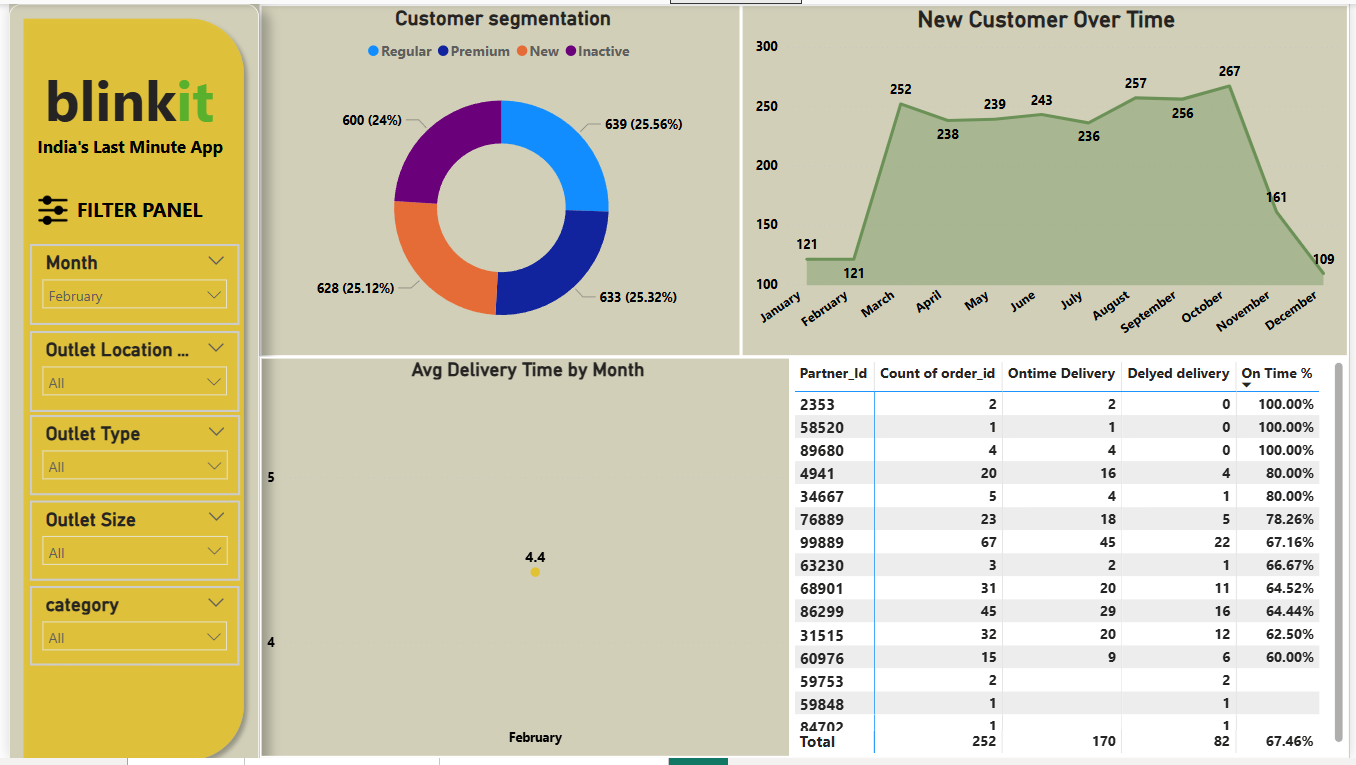

This screenshot's page, from the dashboard's own definition file:
{"tool":"powerbi","page":{"name":"Customer & Delivery","canvas":[1280,720],"ordinal":2},"visuals":[{"type":"lineChart","title":"New Customer Over Time","fields":{"Y":["CountNonNull(blinkit_customers.customer_id)"],"Category":["blinkit_customers.registration_date.Variation.Date Hierarchy.Month"]},"box":[698.3,0,582.2,337.2],"z":0},{"type":"donutChart","title":"Customer segmentation","fields":{"Y":["CountNonNull(blinkit_customers.customer_id)"],"Category":["blinkit_customers.customer_segment"]},"box":[238.6,0,461.3,337.2],"z":1000},{"type":"shape","box":[0,0,238.6,736.5],"z":2000},{"type":"pivotTable","fields":{"Values":["CountNonNull(blinkit_delivery_performance.order_id)","Measures (2).Count of Ontime Delivery","Measures (2).Delyed delivery","Measures (2).On Time %"],"Rows":["blinkit_delivery_performance.delivery_partner_id"]},"box":[744.4,337.2,534.4,383.3],"z":3000},{"type":"areaChart","fields":{"Y":["Measures (2).Avg Delivery Time"],"Category":["blinkit_orders.order_date.Variation.Date Hierarchy.Month"]},"box":[238.6,337.2,509,383.3],"z":4000},{"type":"textbox","box":[0,49.3,259.3,114.5],"z":4001},{"type":"image","box":[19.1,178.1,46.1,38.2],"z":4002},{"type":"textbox","box":[55,178,155,41],"z":4003},{"type":"slicer","fields":{"Values":["blinkit_orders.order_date.Variation.Date Hierarchy.Month"]},"box":[20,229,200,77],"z":4004},{"type":"slicer","fields":{"Values":["blinkit_orders.Outlet Size"]},"box":[20,474,200.4,76.3],"z":4005},{"type":"slicer","fields":{"Values":["blinkit_orders.Outlet Type"]},"box":[20,392,200.4,76.3],"z":4006},{"type":"slicer","fields":{"Values":["blinkit_orders.Outlet Location Type"]},"box":[20,312,200,77],"z":4007},{"type":"slicer","fields":{"Values":["blinkit_products.category"]},"box":[20,556,200,76],"z":4008}]}

Visuals, with their boxes in screenshot pixels (x1, y1, x2, y2), scaled from the page's 1280x720 canvas onto the 1356x765 screenshot:
"New Customer Over Time" lineChart: box(740, 0, 1355, 358)
"Customer segmentation" donutChart: box(253, 0, 741, 358)
shape: box(0, 0, 253, 764)
pivotTable - CountNonNull(blinkit_delivery_performance.order_id) x Measures (2).Count of Ontime Delivery: box(789, 358, 1355, 764)
areaChart - Measures (2).Avg Delivery Time x blinkit_orders.order_date.Variation.Date Hierarchy.Month: box(253, 358, 792, 764)
textbox: box(0, 52, 275, 174)
image: box(20, 189, 69, 230)
textbox: box(58, 189, 222, 233)
slicer - blinkit_orders.order_date.Variation.Date Hierarchy.Month: box(21, 243, 233, 325)
slicer - blinkit_orders.Outlet Size: box(21, 504, 233, 585)
slicer - blinkit_orders.Outlet Type: box(21, 416, 233, 498)
slicer - blinkit_orders.Outlet Location Type: box(21, 332, 233, 413)
slicer - blinkit_products.category: box(21, 591, 233, 672)
